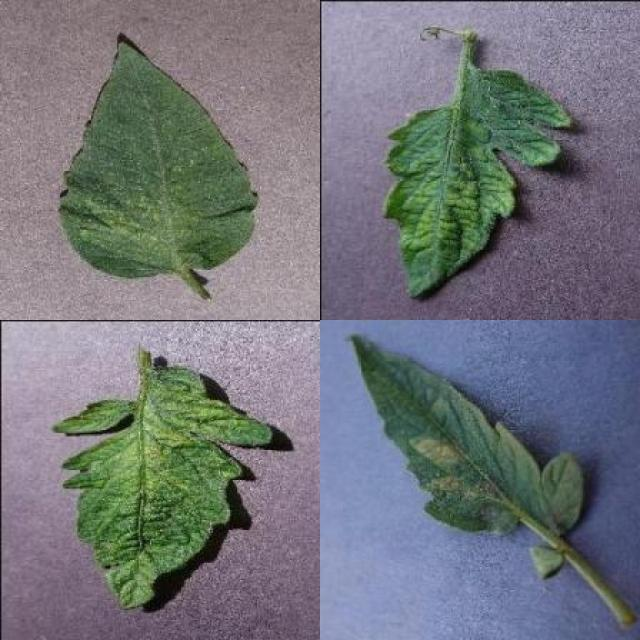Leaf Mold: (352, 332, 584, 538)
Mosaic Virus: (49, 362, 274, 612), (382, 72, 575, 298)
Spider Mites: (57, 40, 259, 280)
